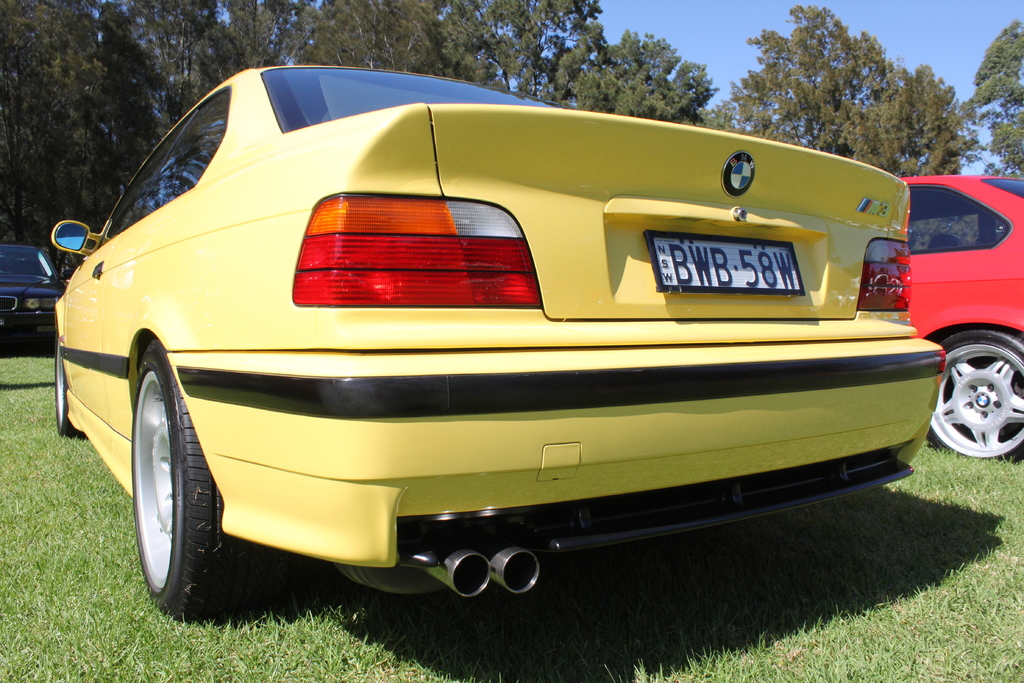Car: (50, 62, 950, 627), (896, 178, 1023, 472), (0, 241, 63, 346)
